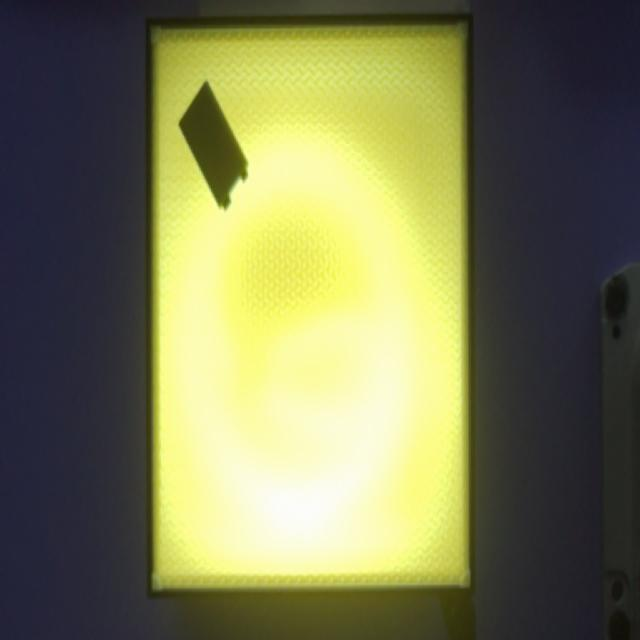bateria: (178, 80, 249, 212)
mesa: (146, 13, 474, 600)
